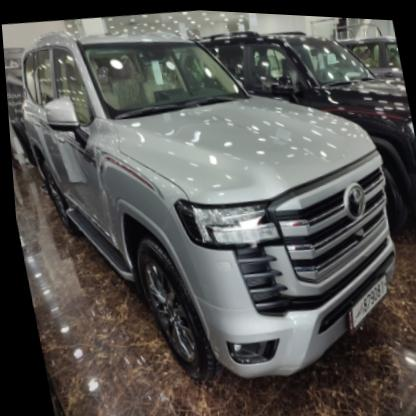np: (334, 265, 393, 333)
